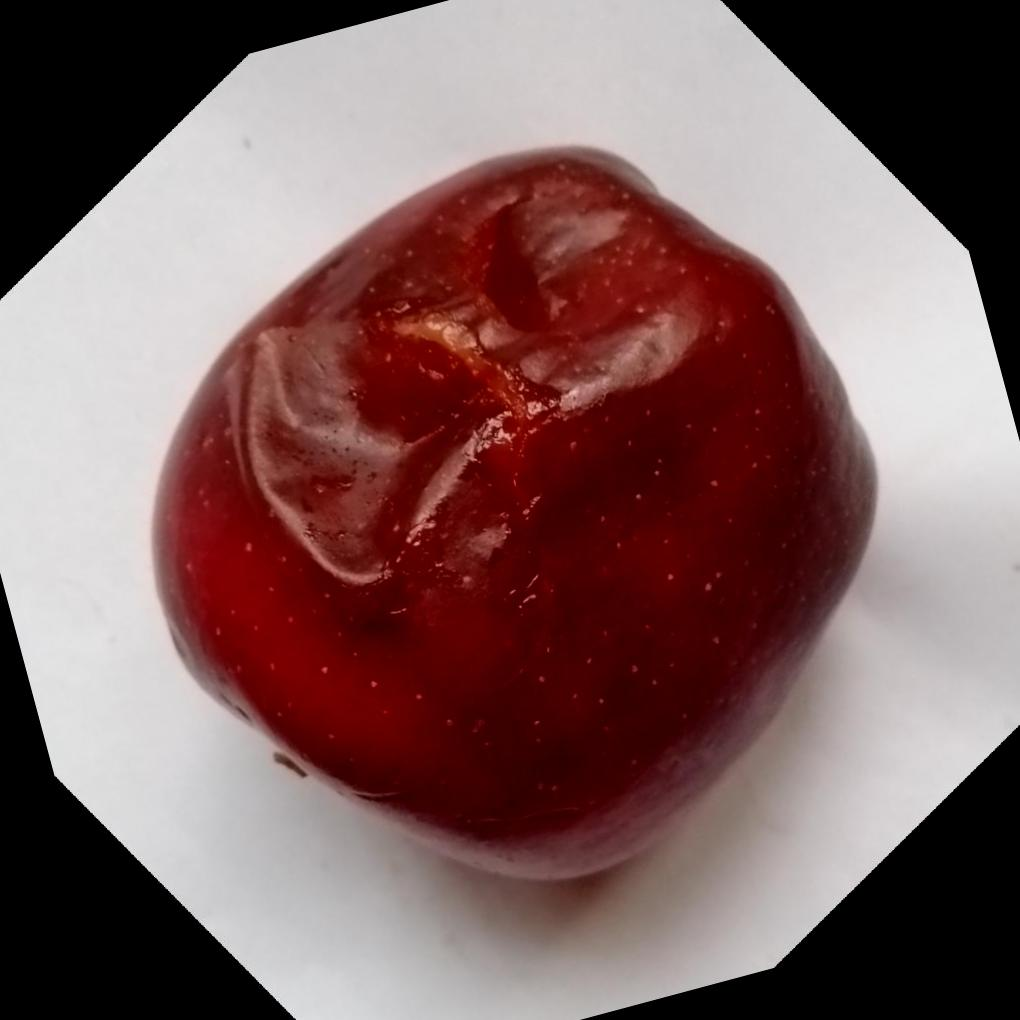FreshOrange: (148, 140, 880, 879)
